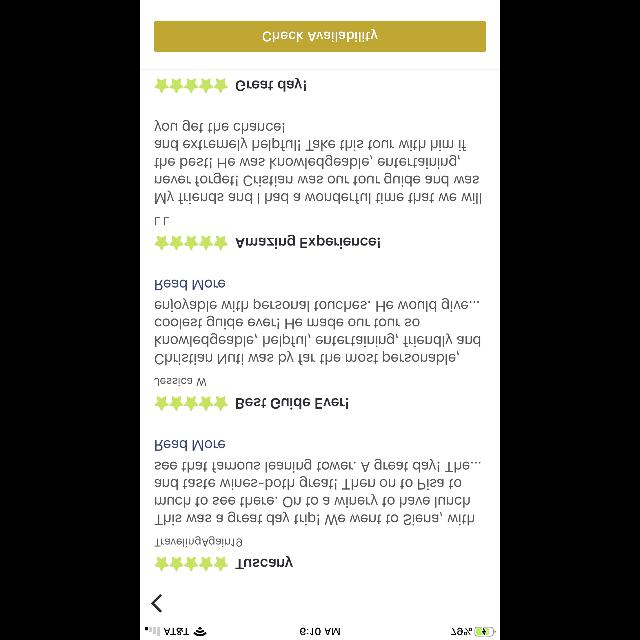icon: (154, 78, 228, 94), (156, 556, 228, 572), (154, 236, 228, 250), (154, 396, 228, 410), (152, 594, 162, 612)
text: (155, 120, 481, 204), (154, 298, 480, 366), (155, 459, 481, 525), (236, 235, 380, 249), (236, 398, 348, 410), (236, 78, 306, 92), (155, 536, 243, 546), (155, 280, 225, 290), (155, 440, 225, 450), (235, 556, 292, 568), (155, 378, 207, 386), (155, 217, 169, 225)
textbutton: (154, 22, 486, 52)
uppertaskbar: (140, 626, 500, 640)
